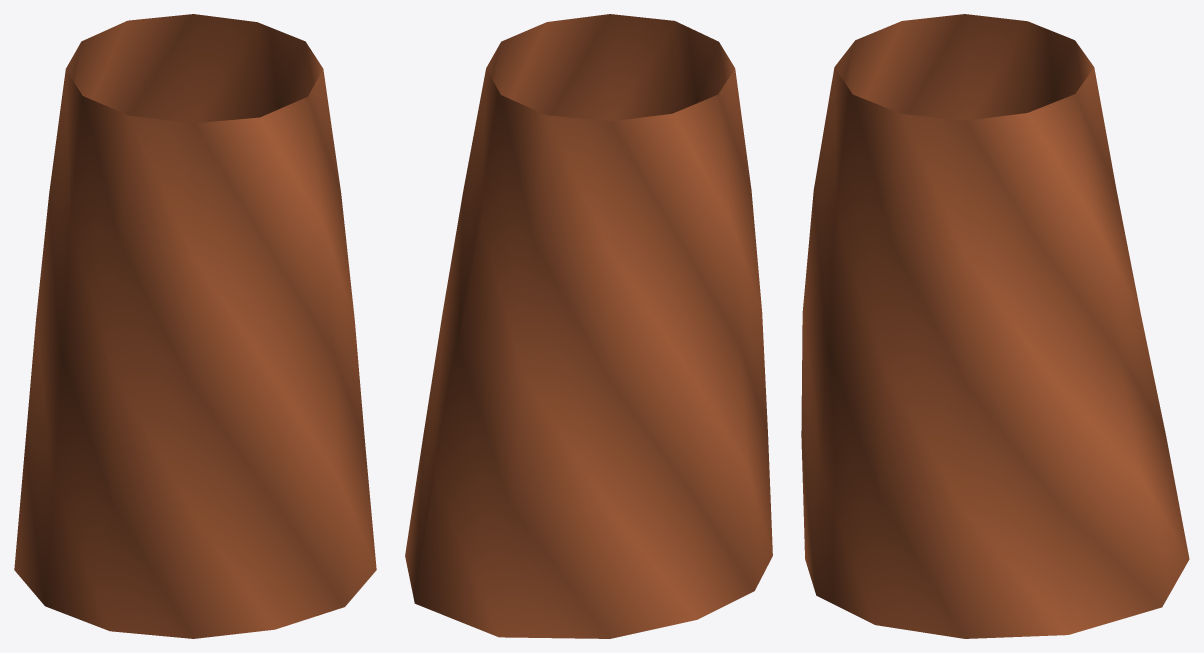
Rendered from copper_armor_cuisse.L.glb.
3 views of the same model, side by side, from view 1: azimuth 30°, elevation 25°; view 2: azimuth 150°, elevation 25°; view 3: azimuth 270°, elevation 25° (orthographic). The views are drawn at different scales.
Parts seen in each view (by area): view 1: copper_armor_cuisse.L; view 2: copper_armor_cuisse.L; view 3: copper_armor_cuisse.L.
Boxes of the visible parts, x1=… form: copper_armor_cuisse.L: x1=14, y1=14, x2=376, y2=638; copper_armor_cuisse.L: x1=405, y1=14, x2=772, y2=638; copper_armor_cuisse.L: x1=801, y1=14, x2=1189, y2=638.
Bounding box in the file's own units: 0.2432 × 0.37 × 0.2644.
